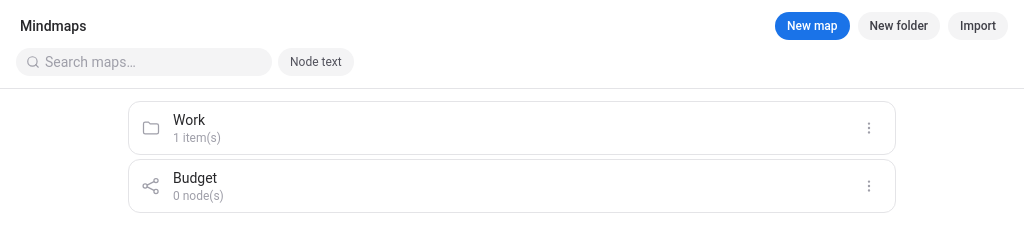
Test: MindmapBrowser — search › opening a folder from the results ends the search and shows the folder
The image size is (1024, 230).
In the field named "Search mindmaps": (144,62) [16, 48, 272, 76], type "trips"
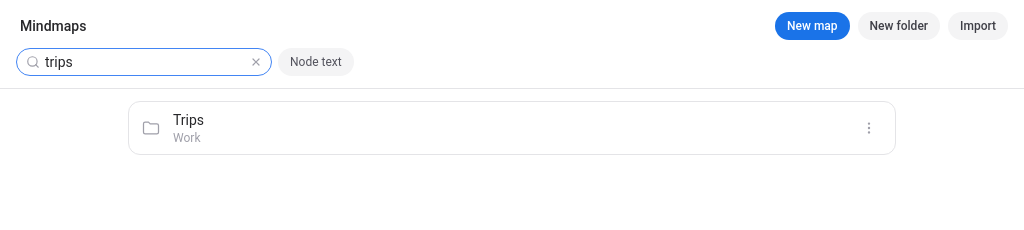
Click the text "Trips": (189,120) [173, 112, 204, 128]
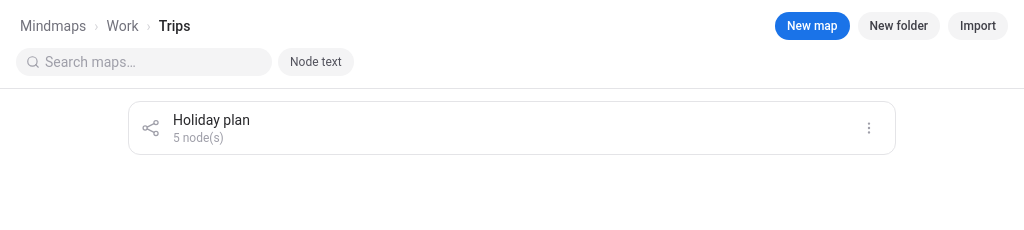
Expected: the text "Holiday plan" is shown, [173, 112, 250, 128]
